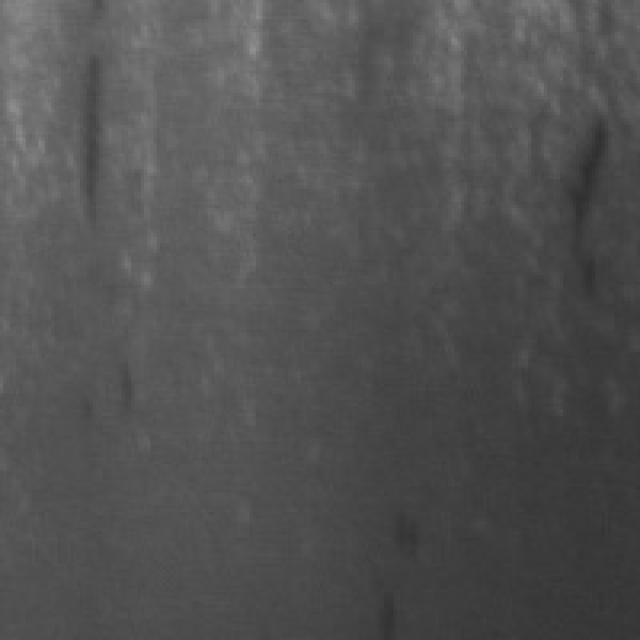inclusion: (528, 103, 630, 340), (61, 28, 118, 234), (77, 336, 134, 429)
